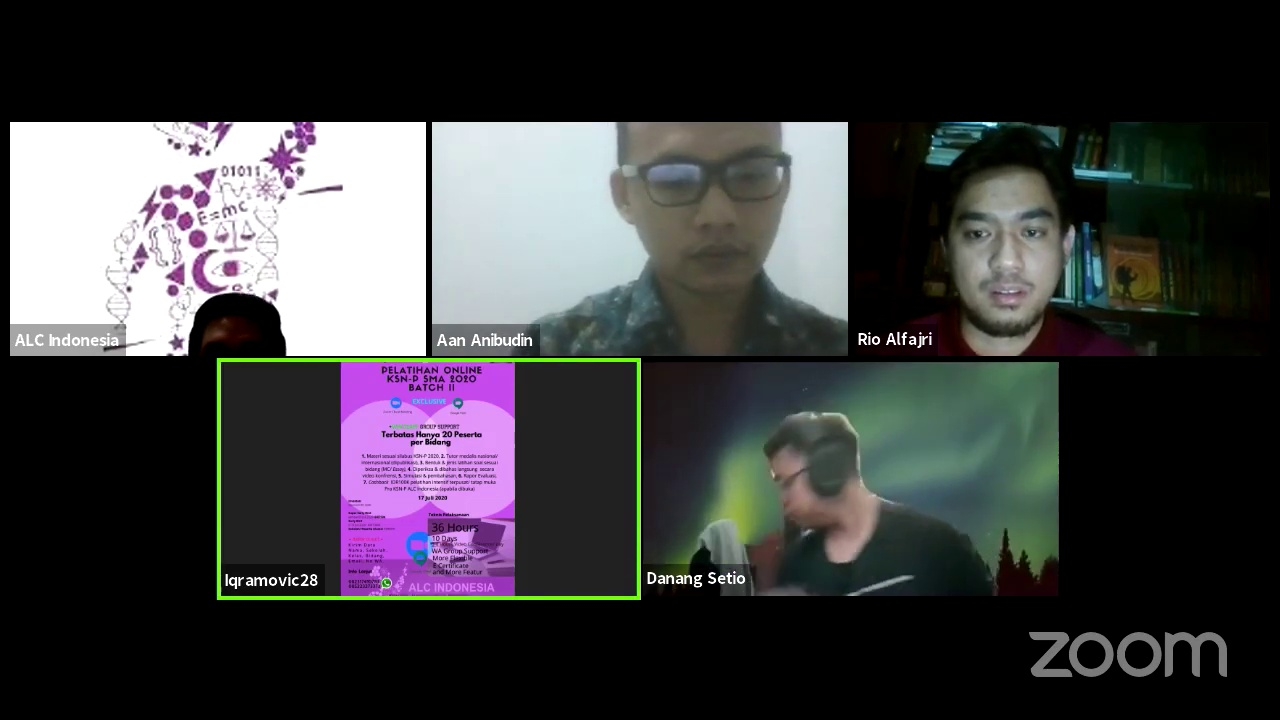Distracted: (758, 415, 877, 532)
Not Distracted: (611, 124, 797, 297), (936, 148, 1088, 337)
